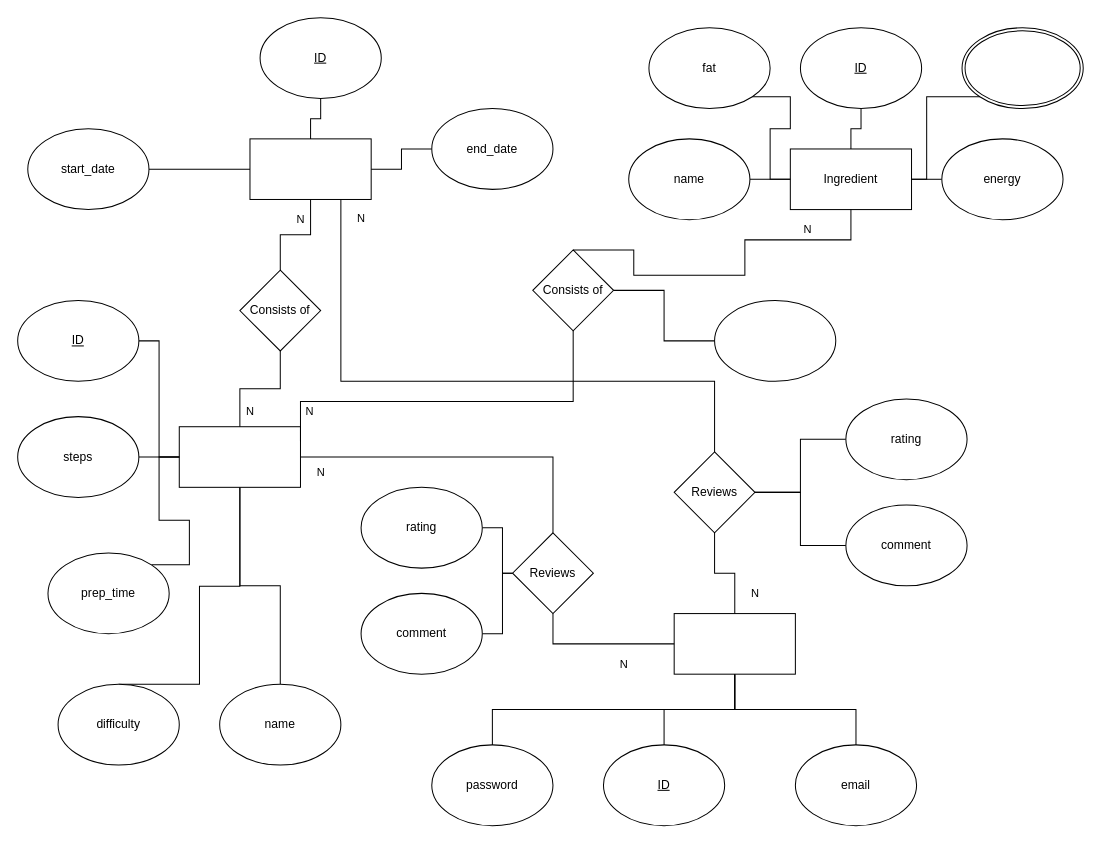
The diagram is 1101 pixels wide and 843 high, and some of its shapes have lost their labels. Each missing label, with the centre of its shape:
"allergens" belongs at pixel 1022 68.
"measurement" belongs at pixel 775 340.
"Menu" belongs at pixel 310 168.
"Recipe" belongs at pixel 239 456.
"User" belongs at pixel 734 643.
